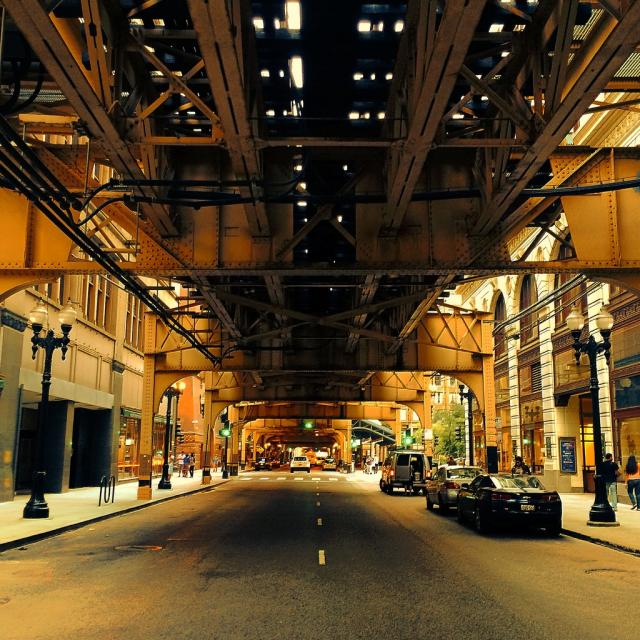car: (458, 472, 561, 537), (288, 454, 308, 470), (323, 460, 335, 469)
